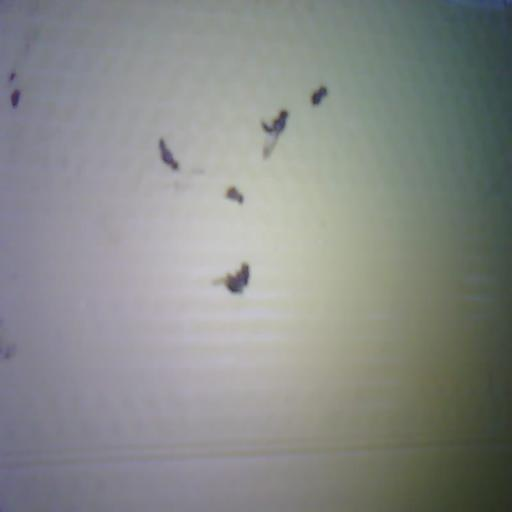Insects: (213, 262, 250, 293), (261, 110, 288, 135), (159, 139, 179, 169), (311, 86, 327, 105)
dust: (0, 332, 15, 360), (226, 186, 243, 203), (11, 89, 20, 108), (9, 72, 15, 81)
